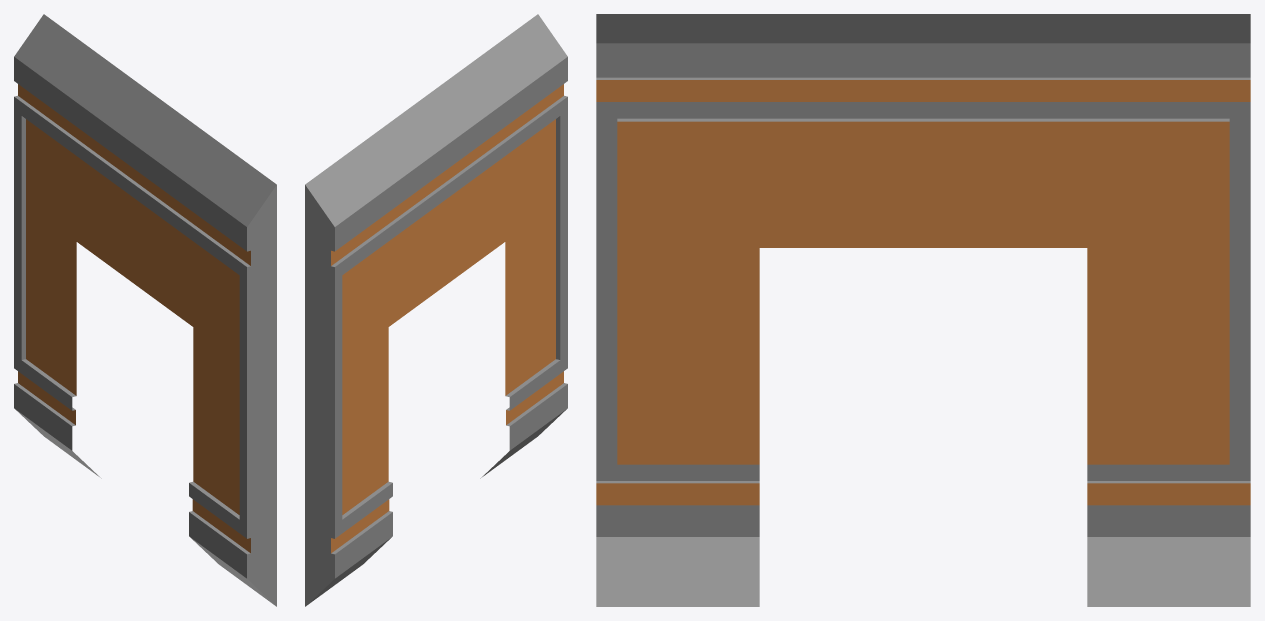
The model's file is Wall_06_Door.FBX.
The picture shows the model from 3 angles, left to right: view 1: azimuth 30°, elevation 25°; view 2: azimuth 150°, elevation 25°; view 3: azimuth 270°, elevation 25°; orthographic projection. The views are drawn at different scales.
Parts seen in each view (by area): view 1: Wall_06_Door_LOD0; view 2: Wall_06_Door_LOD0; view 3: Wall_06_Door_LOD0.
Part boxes in pixels (x1,y1,x2,y2): Wall_06_Door_LOD0: (14,14,276,606); Wall_06_Door_LOD0: (305,14,567,606); Wall_06_Door_LOD0: (596,14,1250,606).
Size of what is drawn, in the model's own units: 13.27 by 180 by 180.
